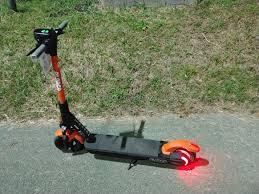kick_board: (26, 21, 200, 165)
kick_body: (88, 135, 160, 159)
kick_handler: (28, 19, 68, 59)
kick_neck: (53, 57, 74, 120)
kick_wheel: (165, 139, 195, 166), (55, 131, 81, 151)
